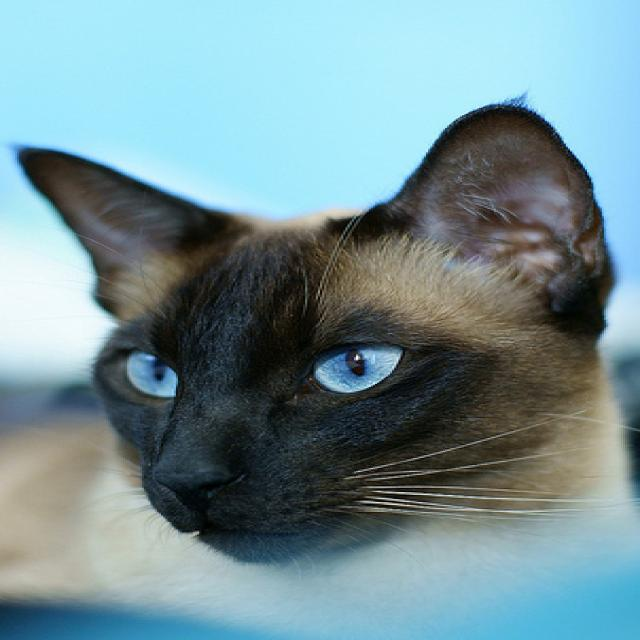Siamese: (0, 100, 640, 604)
